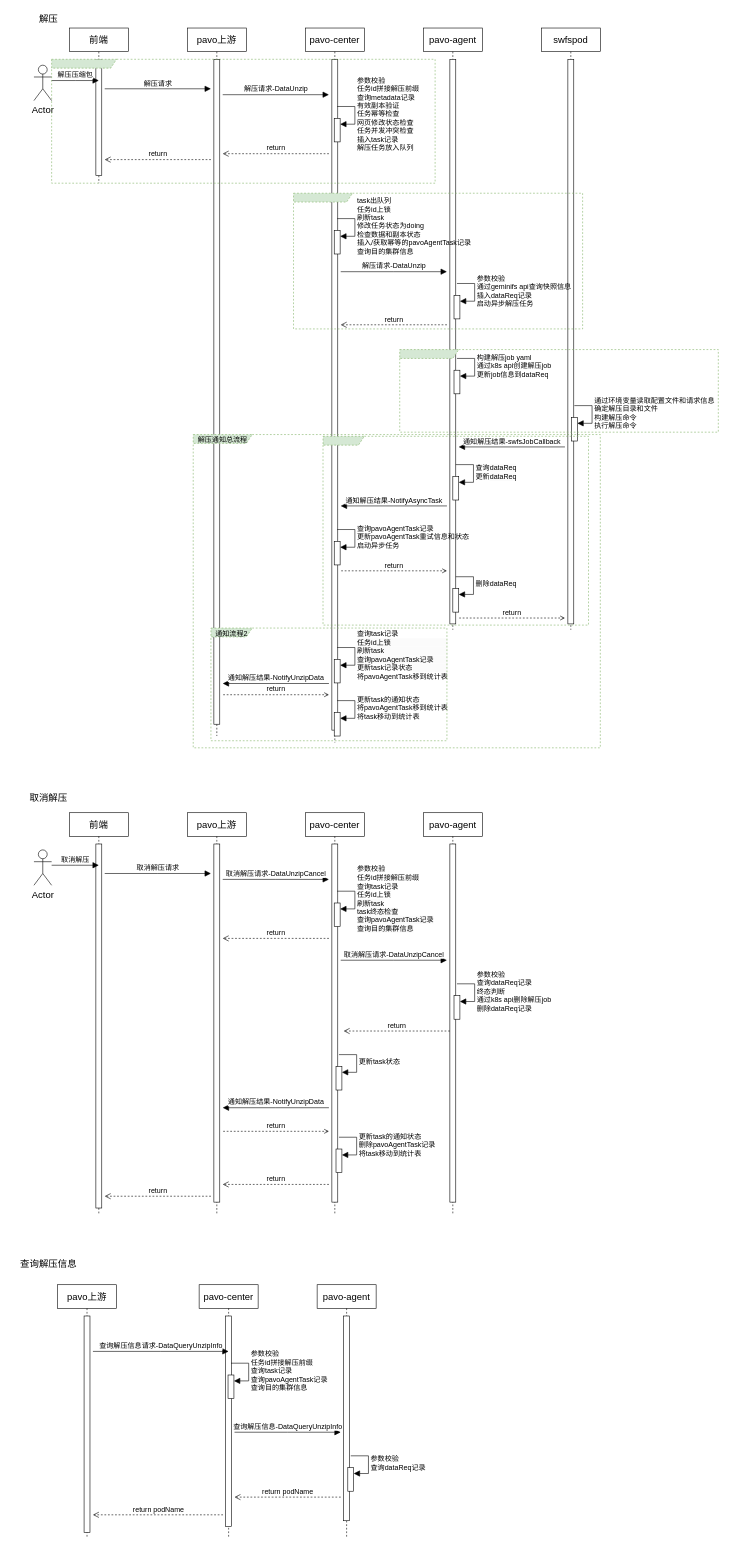
The diagram is 729 pixels wide and 1549 high, and some of its shapes have lost their labels. Here are the shapes that lost their labels. From the top down, the centre of each, then its label:
At point (243, 121): "解压受理流程1".
At point (438, 261): "解压受理流程2".
At point (558, 390): "异步解压流程".
At point (455, 530): "通知流程1".
